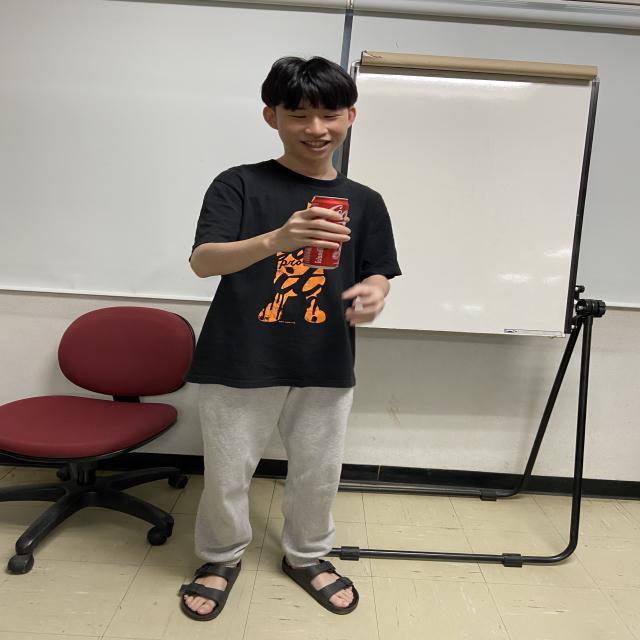can: (301, 193, 350, 270)
